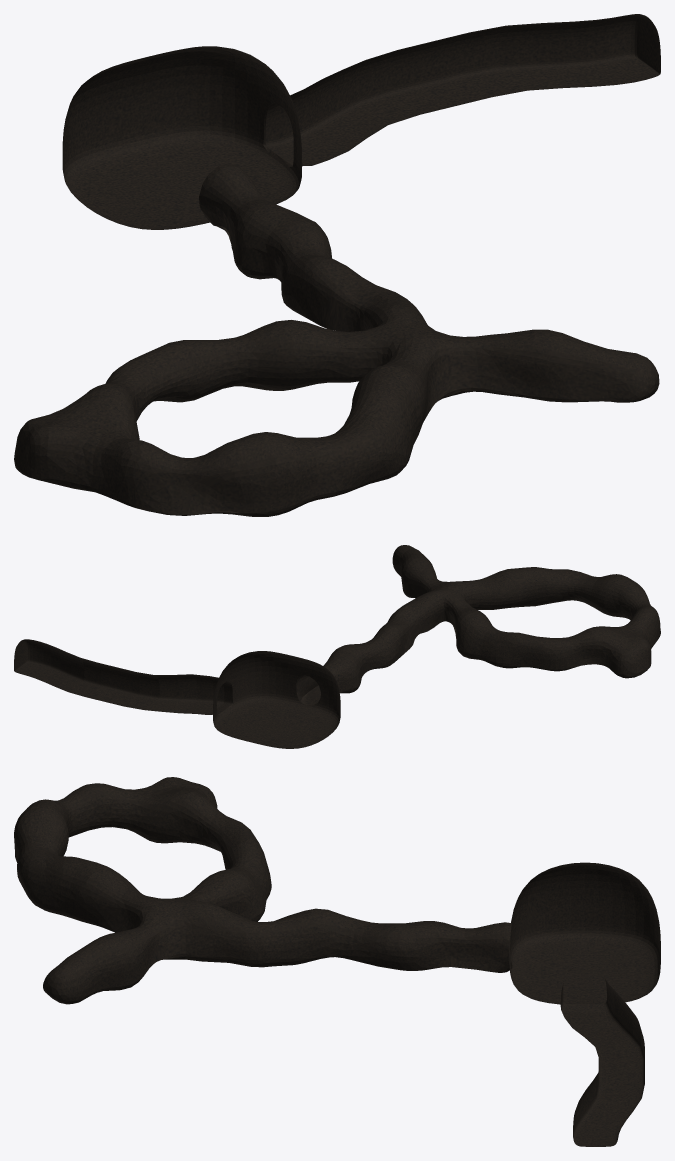
Rendered from Prototype_Map_Test.fbx.
The picture shows the model from 3 angles, top to bottom: view 1: azimuth 30°, elevation 25°; view 2: azimuth 150°, elevation 25°; view 3: azimuth 270°, elevation 25°; orthographic projection. The views are drawn at different scales.
Visible parts, largest first — view 1: Cave_3, Cave_1, Cave_2; view 2: Cave_3, Cave_1, Cave_2; view 3: Cave_3, Cave_1, Cave_2.
Part boxes in pixels (x1,y1,x2,y2): Cave_3: (14,163,659,516); Cave_1: (62,46,302,229); Cave_2: (265,14,660,165); Cave_3: (296,545,660,705); Cave_1: (213,651,340,748); Cave_2: (14,639,232,714); Cave_3: (14,777,512,1004); Cave_1: (509,862,660,1004); Cave_2: (560,977,644,1146).
Size of the model in its own units: 3527 by 466 by 2912.
3 materials, 3 textured.
